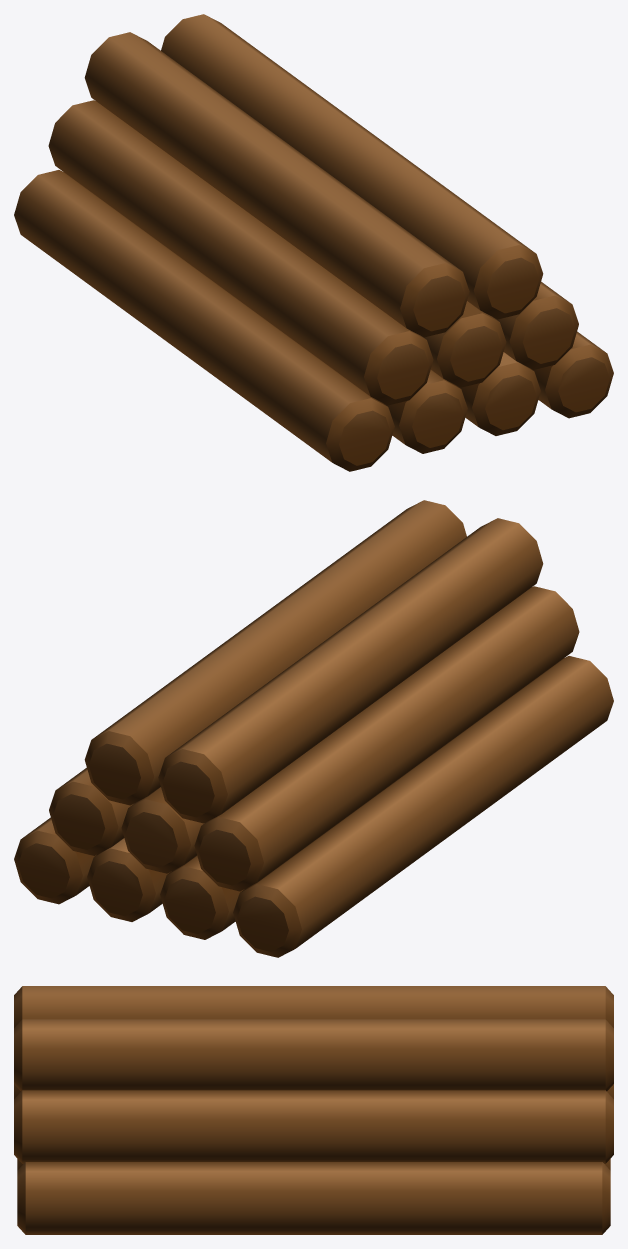
File: Wooden_Logs.fbx
The picture shows the model from 3 angles, top to bottom: view 1: azimuth 30°, elevation 25°; view 2: azimuth 150°, elevation 25°; view 3: azimuth 270°, elevation 25°; orthographic projection. The views are drawn at different scales.
Parts seen in each view (by area): view 1: Wooden_Logs; view 2: Wooden_Logs; view 3: Wooden_Logs.
Part boxes in pixels (box(x1,y1,x2,y2)): Wooden_Logs: box(14, 14, 613, 471); Wooden_Logs: box(14, 500, 613, 957); Wooden_Logs: box(14, 986, 613, 1234).
Size of the model in its own units: 257 by 159 by 501.
